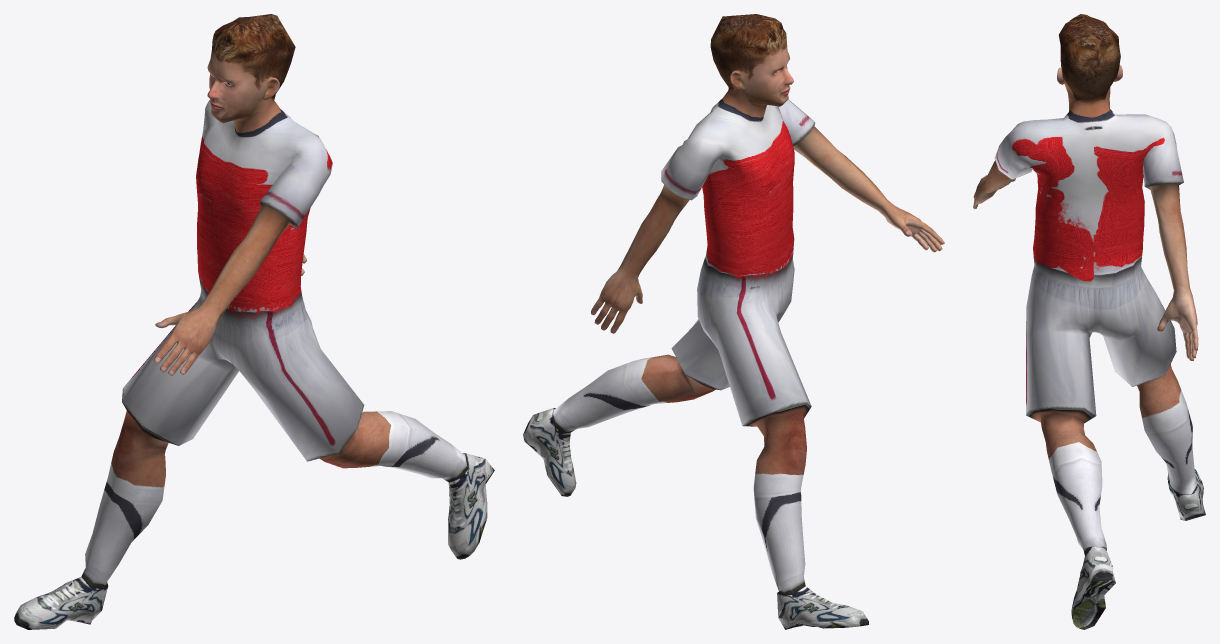
Rendered from playerAI.obj.
3 views of the same model, side by side, from view 1: azimuth 30°, elevation 25°; view 2: azimuth 150°, elevation 25°; view 3: azimuth 270°, elevation 25° (orthographic). The views are drawn at different scales.
Parts seen in each view (by area): view 1: soccerplayer_mesh; view 2: soccerplayer_mesh; view 3: soccerplayer_mesh.
Boxes of the visible parts, bbox=[...] form: soccerplayer_mesh: bbox=[14, 14, 494, 629]; soccerplayer_mesh: bbox=[523, 14, 944, 629]; soccerplayer_mesh: bbox=[973, 14, 1205, 629].
Bounding box in the file's own units: 2.06 × 2.82 × 1.1.
